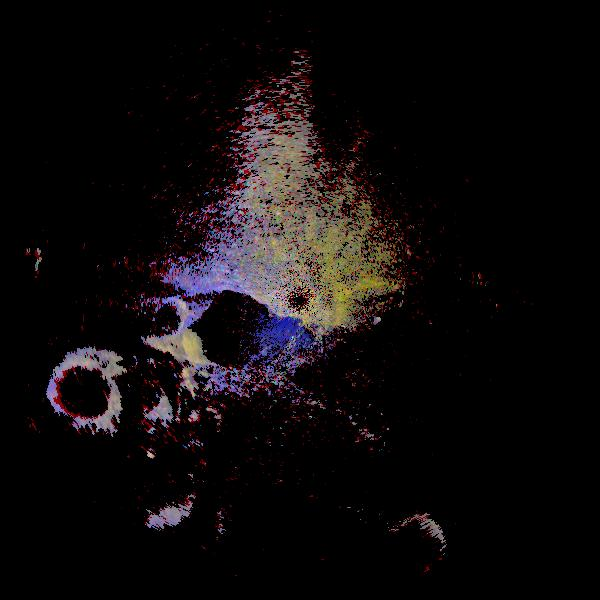roost: (9, 312, 165, 468)
